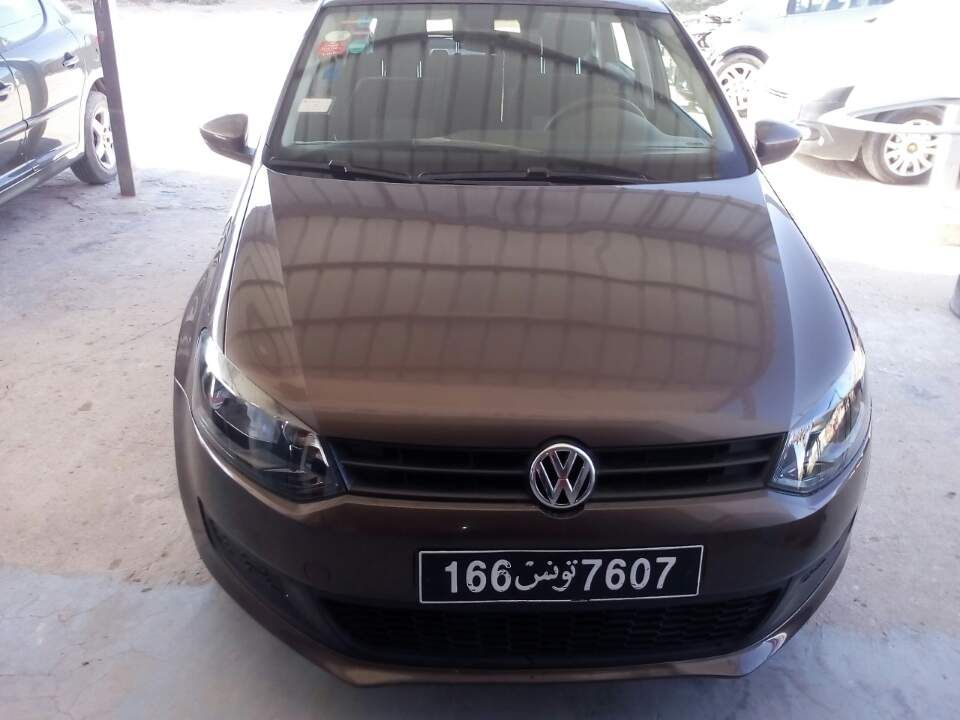LP: (416, 545, 706, 606)
